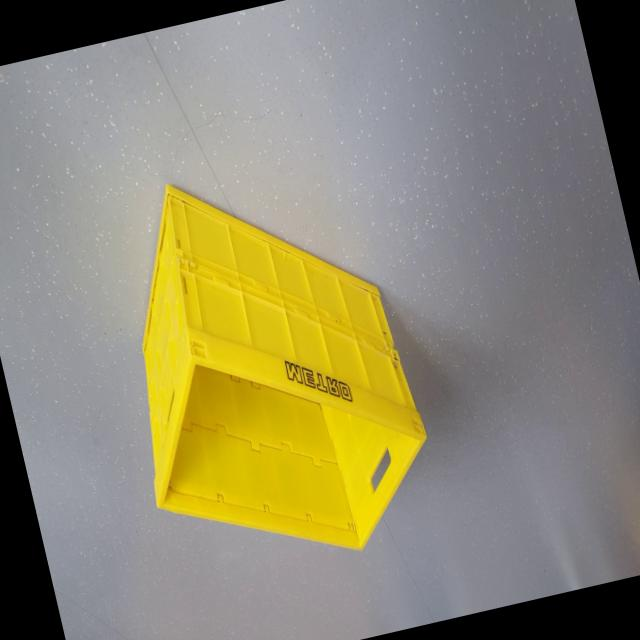box: (79, 136, 452, 610)
